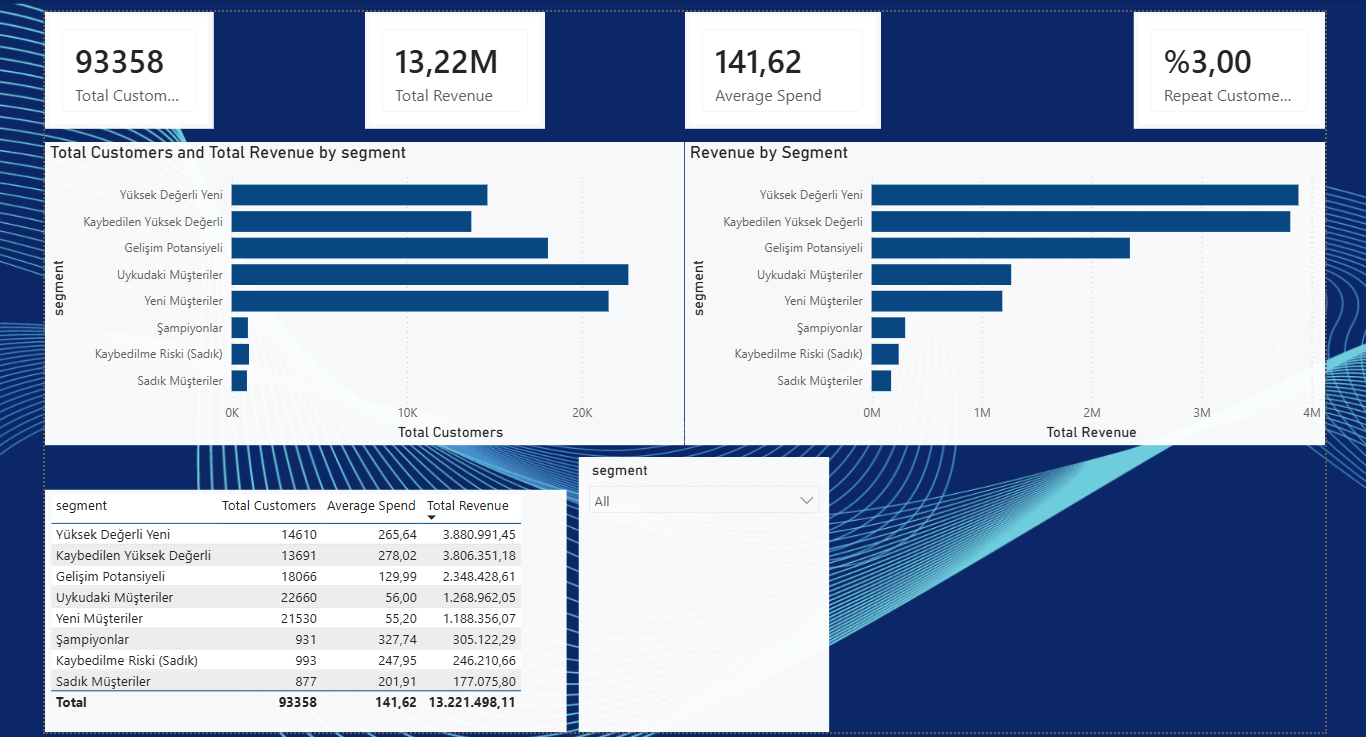

The dashboard page shown, as its layout file describes it:
{"tool":"powerbi","page":{"name":"Customer Segmentation (RFM)","canvas":[1280,720],"ordinal":0},"visuals":[{"type":"cardVisual","fields":{"Data":["vw_rfm.Toplam Müşteri"]},"box":[0,0,168.6,117.1],"z":0},{"type":"cardVisual","fields":{"Data":["vw_rfm.Toplam Gelir"]},"box":[320,0,180,117.1],"z":1000},{"type":"cardVisual","fields":{"Data":["vw_rfm.Ortalama Harcama"]},"box":[640,0,195.7,117.1],"z":2000},{"type":"cardVisual","fields":{"Data":["vw_rfm.Tekrar Alan Oranı"]},"box":[1088.6,0,191.4,117.1],"z":3000},{"type":"clusteredBarChart","fields":{"Category":["vw_rfm.segment"],"Y":["vw_rfm.Toplam Müşteri"]},"box":[0,129.6,639.5,303.3],"z":4000},{"type":"tableEx","fields":{"Values":["vw_rfm.segment","vw_rfm.Toplam Müşteri","vw_rfm.Ortalama Harcama","vw_rfm.Toplam Gelir"]},"box":[0,477.1,521.4,242.9],"z":5000},{"type":"slicer","fields":{"Values":["vw_rfm.segment"]},"box":[533.2,445.1,250.7,275.1],"z":6000},{"type":"clusteredBarChart","title":"Revenue by Segment","fields":{"Category":["vw_rfm.segment"],"Y":["vw_rfm.Toplam Gelir"]},"box":[639.5,129.6,640.8,303.3],"z":7000}]}

Visuals, with their boxes in screenshot pixels (x1, y1, x2, y2):
cardVisual - vw_rfm.Toplam Müşteri: (39,7,209,125)
cardVisual - vw_rfm.Toplam Gelir: (362,7,543,125)
cardVisual - vw_rfm.Ortalama Harcama: (685,7,882,125)
cardVisual - vw_rfm.Tekrar Alan Oranı: (1137,7,1330,125)
clusteredBarChart - vw_rfm.segment x vw_rfm.Toplam Müşteri: (39,138,684,444)
tableEx - vw_rfm.segment x vw_rfm.Toplam Müşteri: (39,488,565,733)
slicer - vw_rfm.segment: (577,456,830,733)
"Revenue by Segment" clusteredBarChart: (684,138,1330,444)
